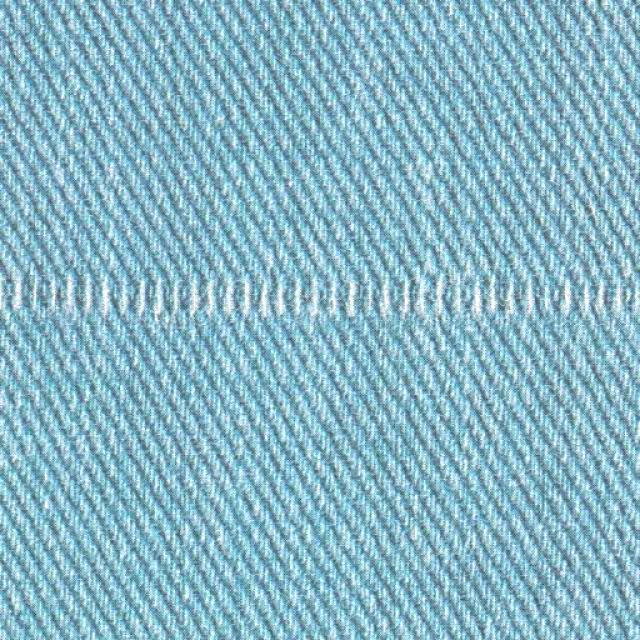pulled_or_thick_thread: (16, 258, 639, 333)
